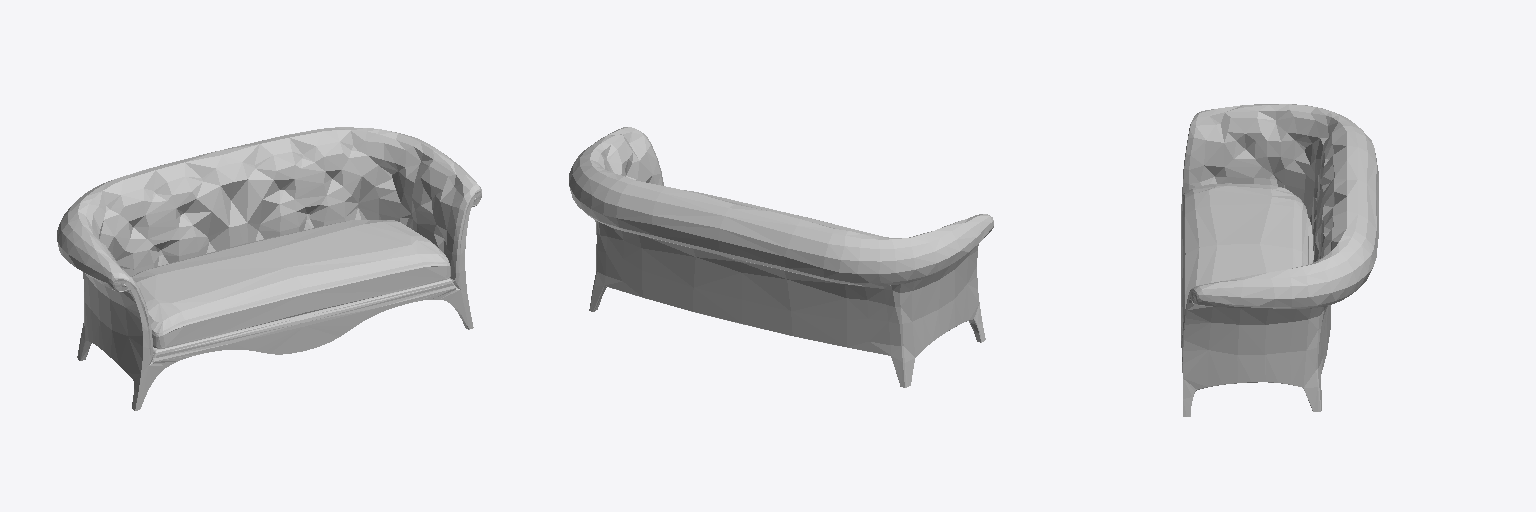
The model's file is sofa_02_4k.obj.
The picture shows the model from 3 angles: view 1: azimuth 30°, elevation 25°; view 2: azimuth 150°, elevation 25°; view 3: azimuth 270°, elevation 25°; orthographic projection.
Parts seen in each view (by area): view 1: sofa_02_Base, sofa_02_Seat; view 2: sofa_02_Base, sofa_02_Seat; view 3: sofa_02_Base, sofa_02_Seat.
Boxes of the visible parts, x1,y1,x2,y2 form: sofa_02_Base: [57, 127, 481, 410]; sofa_02_Seat: [132, 220, 450, 348]; sofa_02_Base: [569, 127, 993, 387]; sofa_02_Seat: [684, 190, 882, 236]; sofa_02_Base: [1182, 104, 1378, 416]; sofa_02_Seat: [1181, 183, 1308, 347].
Bounding box in the file's own units: 1.81 × 0.7095 × 0.8178.